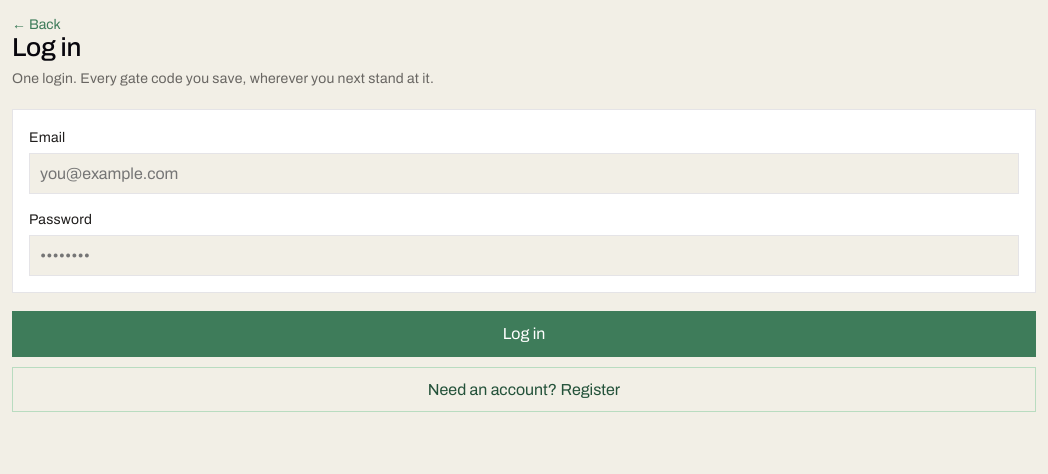
AuthPanel › shows an error message and does not authenticate on a server rejection
Type "driver@example.com" into the field labelled "Email" at (524, 173), box [29, 153, 1019, 194]
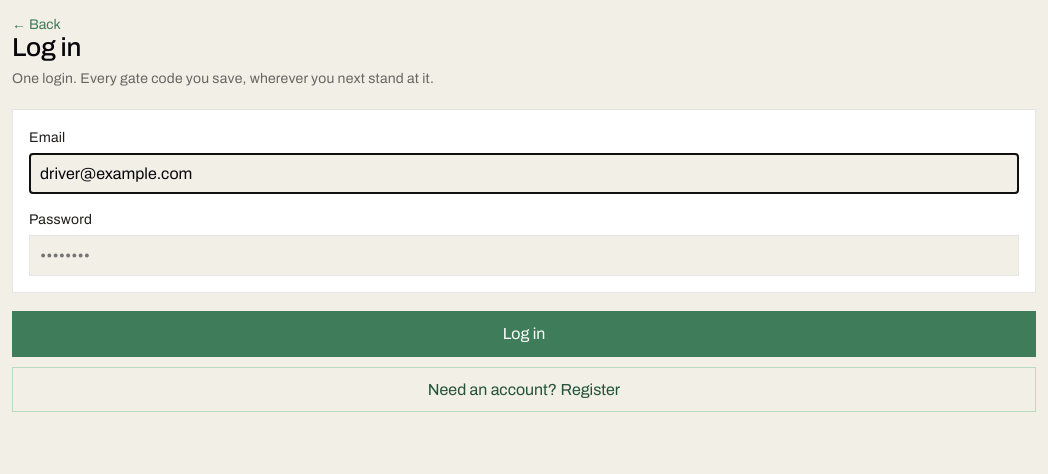
Type "wrong password" into the password field labelled "Password" at (524, 256), box [29, 235, 1019, 276]
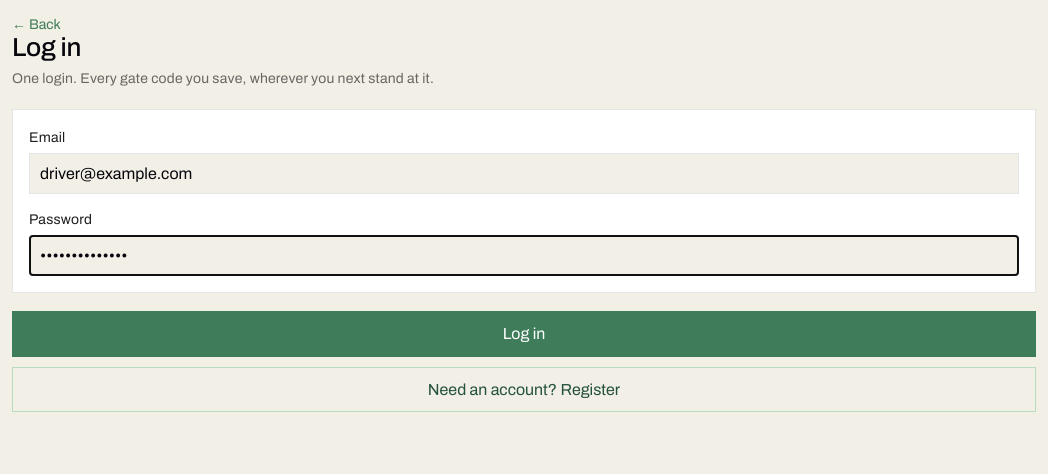
Click the button "Log in" at (524, 334), box [12, 311, 1036, 357]
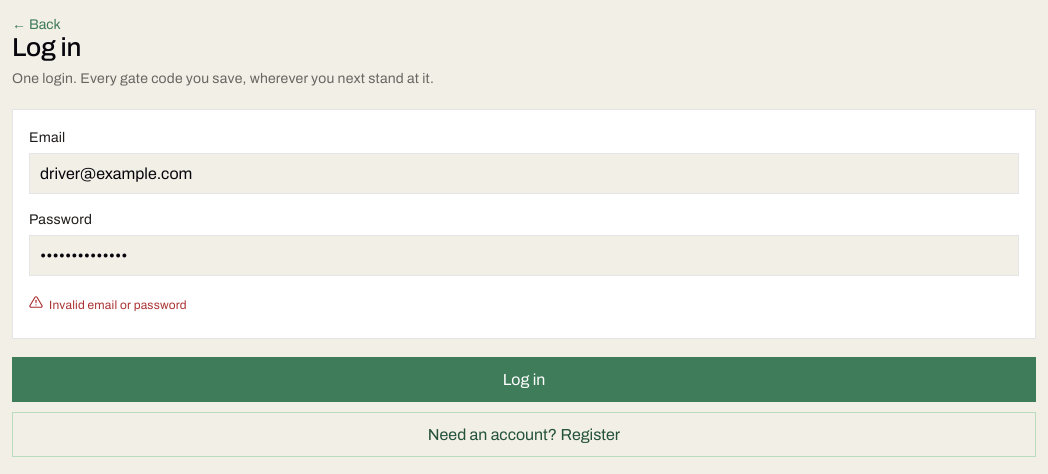
Check: the message reads "Invalid email or password", box [49, 298, 187, 312]
